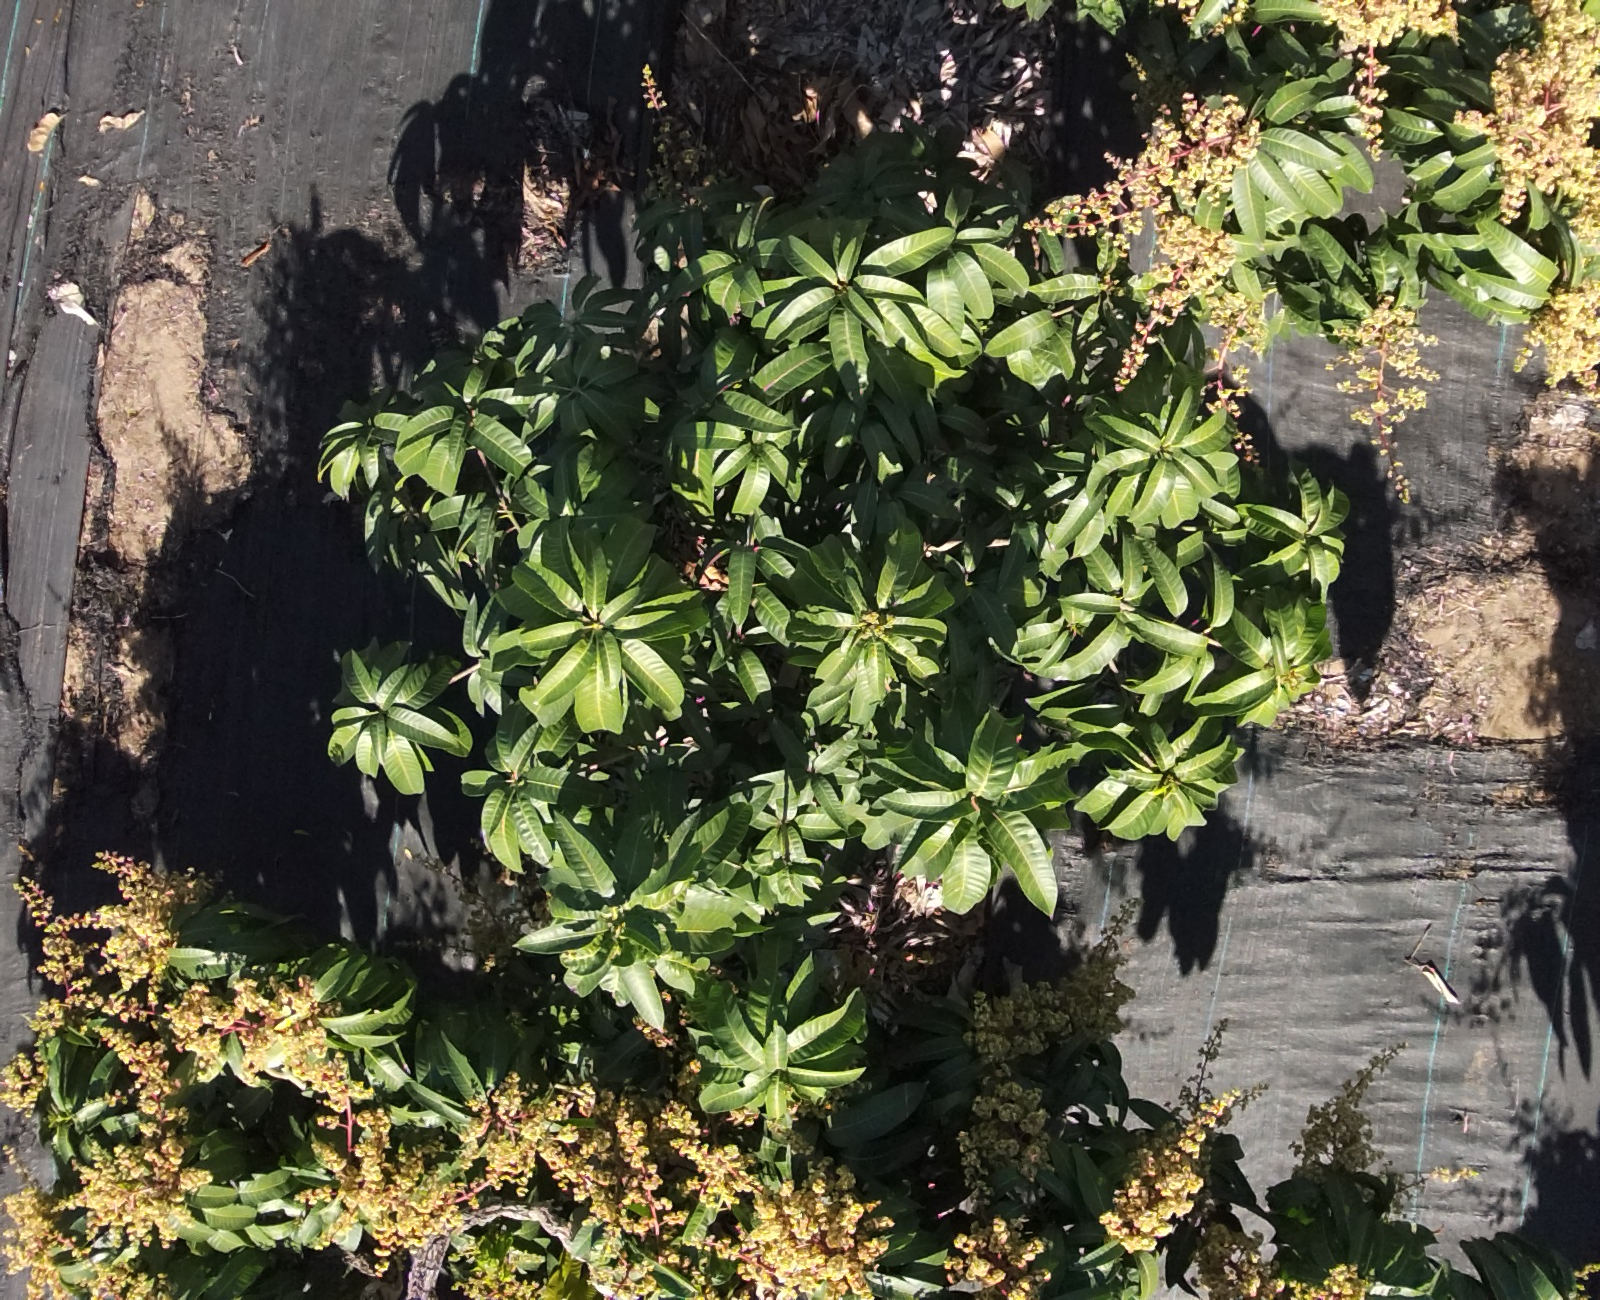flowers: (460, 1077, 892, 1300), (1032, 92, 1264, 386), (40, 860, 334, 1084), (297, 1084, 577, 1300), (1457, 1, 1600, 243), (1327, 294, 1438, 499), (1317, 1, 1458, 159), (72, 1132, 211, 1244), (1100, 1117, 1205, 1251), (1514, 281, 1600, 397), (945, 1216, 1048, 1300), (1, 1185, 76, 1300), (456, 1238, 557, 1300), (1201, 1264, 1370, 1300), (111, 1029, 178, 1114), (1206, 361, 1256, 462), (1351, 45, 1386, 159), (1153, 1, 1250, 38), (90, 1258, 172, 1300), (1, 1052, 46, 1114)
